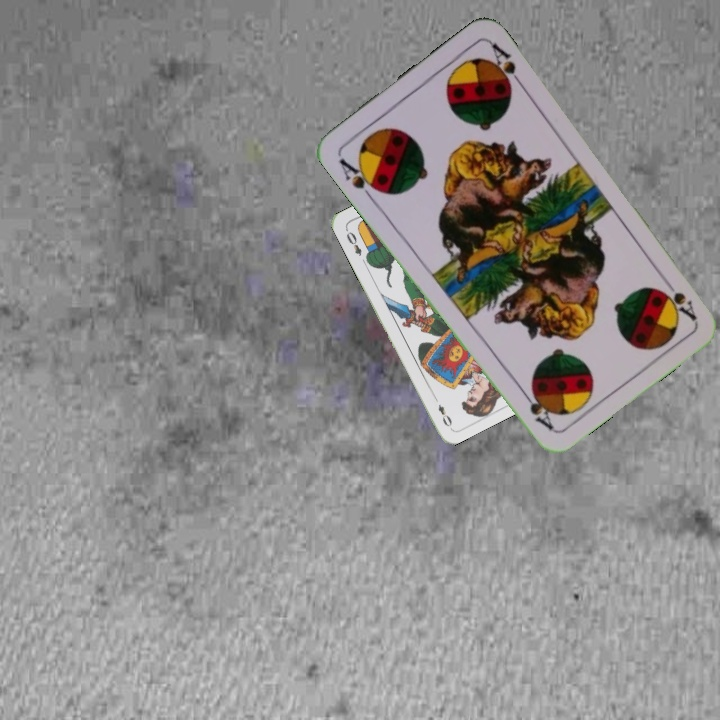EO: (342, 225, 364, 258)
SA: (335, 154, 384, 202), (657, 272, 700, 323)
